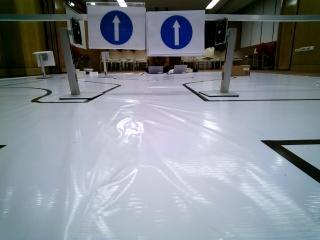straight: (146, 12, 210, 54), (88, 3, 143, 49)
